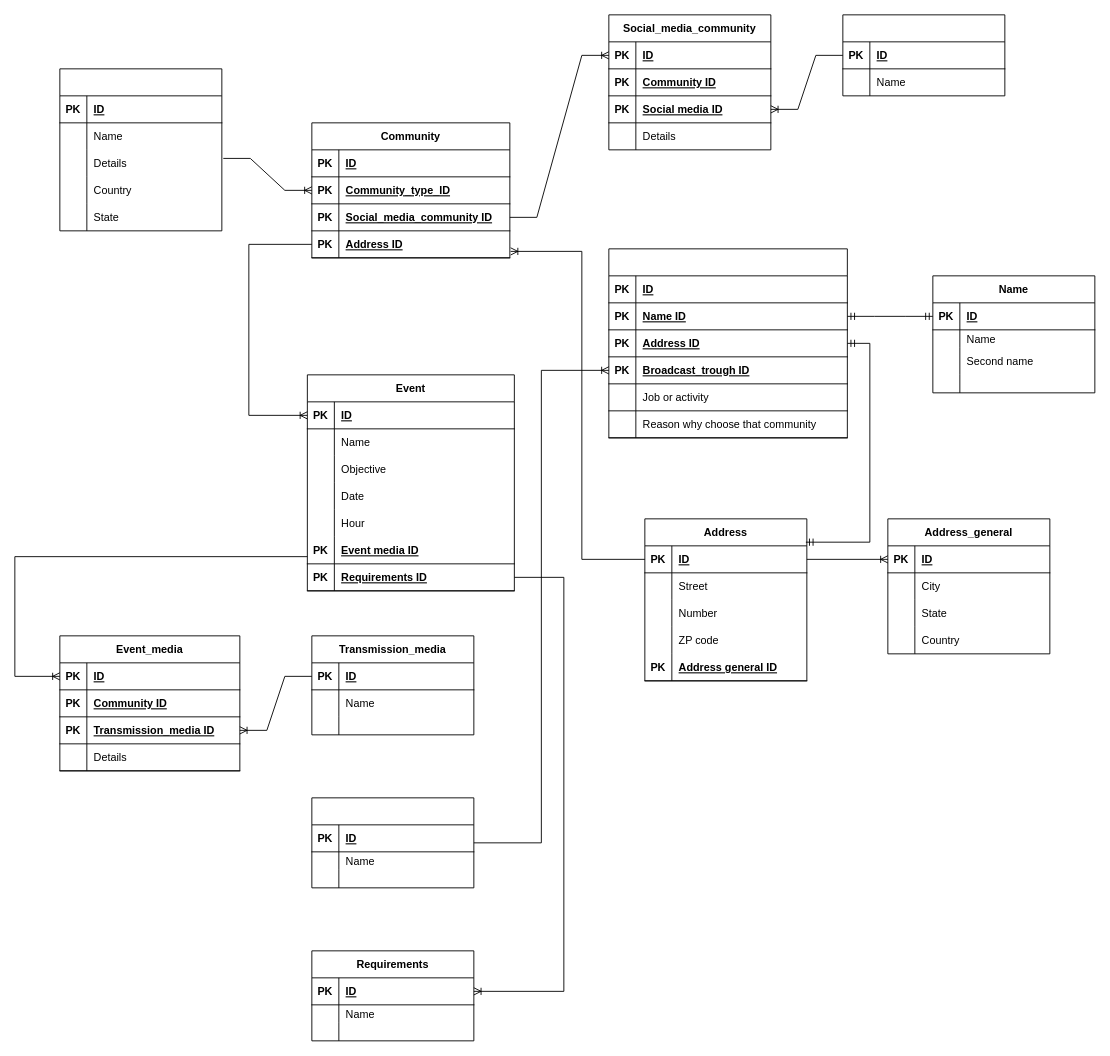
The diagram is 1110 pixels wide and 1056 high, and some of its shapes have lost their labels. Here are the shapes that lost their labels. From the top down, the box of each, then its label:
(842, 14, 1005, 96): Social_media
(59, 68, 222, 231): Community_type
(608, 248, 847, 438): Member
(311, 797, 474, 888): Broadcast_trough
